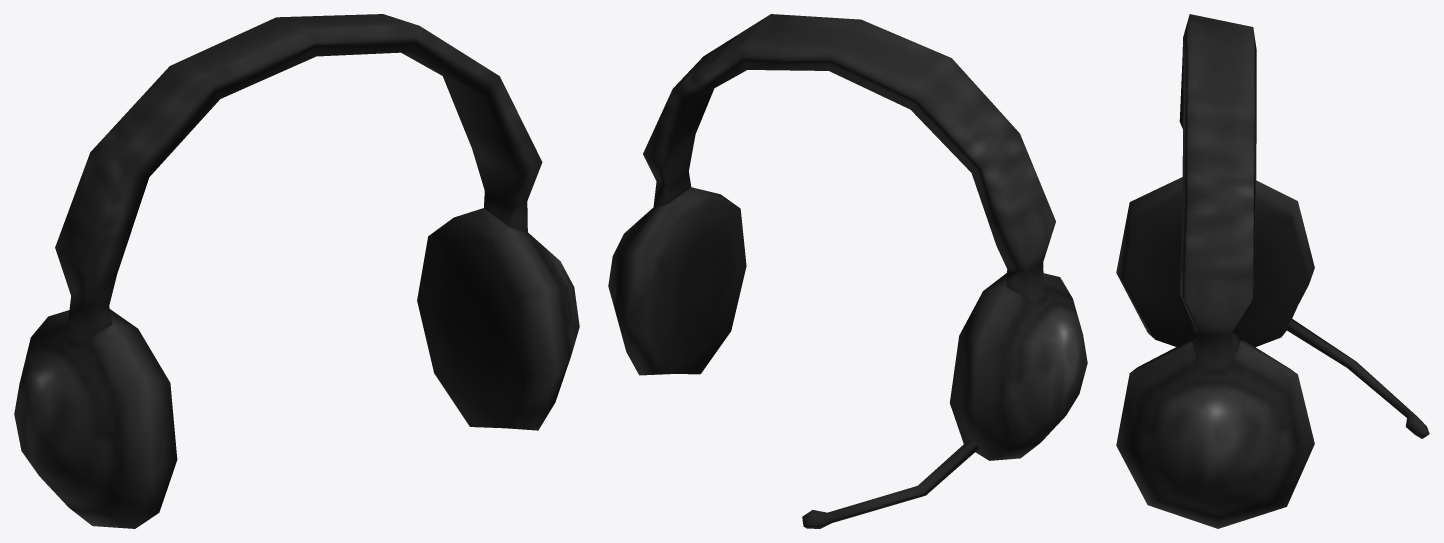
File: headphone3.glb
The picture shows the model from 3 angles, left to right: view 1: azimuth 30°, elevation 25°; view 2: azimuth 150°, elevation 25°; view 3: azimuth 270°, elevation 25°; orthographic projection. The views are drawn at different scales.
Parts seen in each view (by area): view 1: headphone3; view 2: headphone3; view 3: headphone3.
Part boxes in pixels (bbox=[...]): headphone3: bbox=[14, 14, 579, 528]; headphone3: bbox=[608, 14, 1087, 528]; headphone3: bbox=[1116, 14, 1429, 528].
Size of the model in its own units: 0.3153 by 0.2771 by 0.1846.
Materials: 1 (1 with a texture image).
